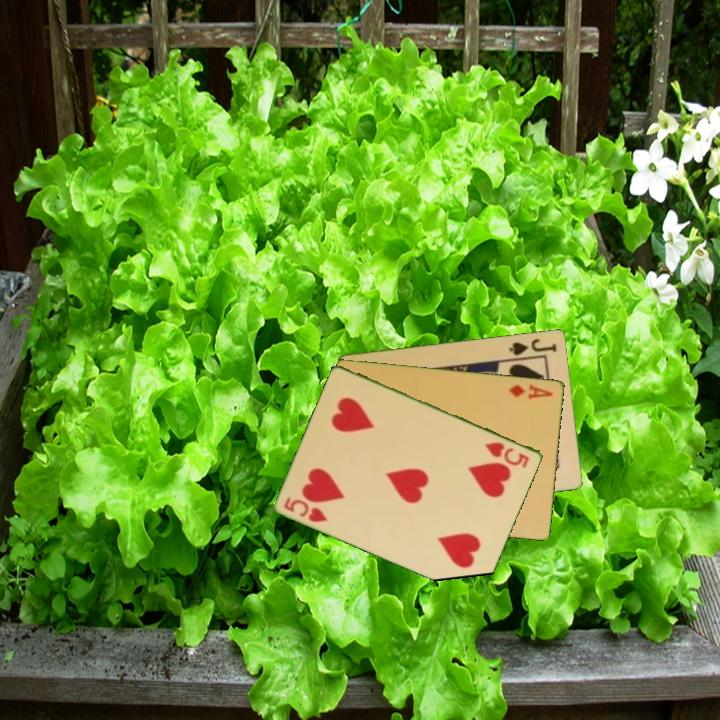5h: (482, 438, 532, 471), (281, 494, 330, 525)
Ad: (506, 380, 556, 402)
Js: (506, 335, 560, 358)
